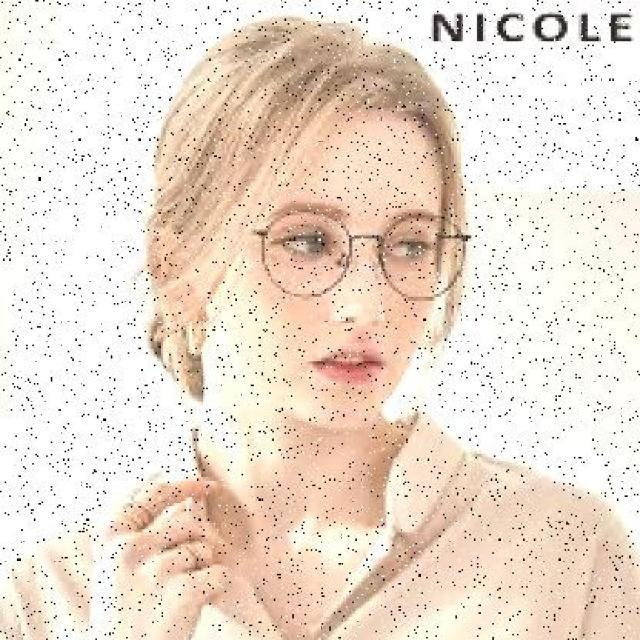glasses: (248, 198, 480, 310)
